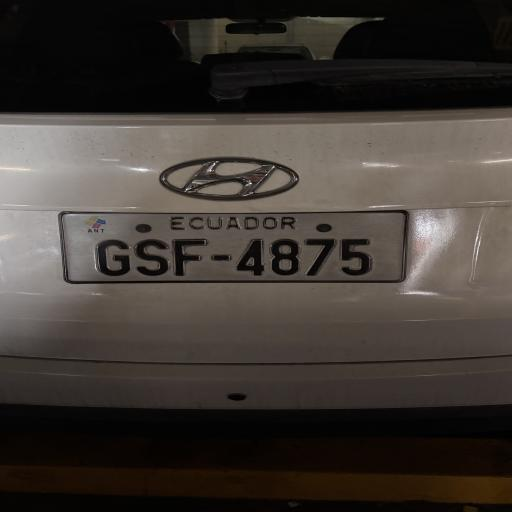license_plate: (61, 212, 406, 282)
